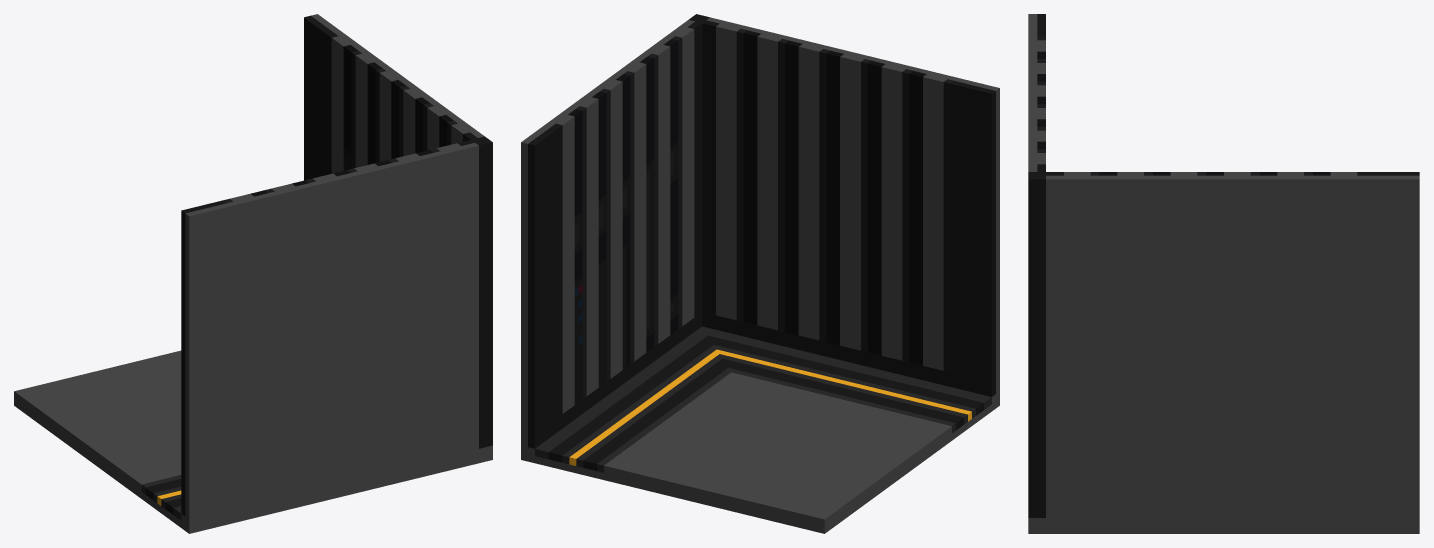
File: mesh_hanger_wall_grid_corner.obj
3 renders of one model, left to right at view 1: azimuth 30°, elevation 25°; view 2: azimuth 150°, elevation 25°; view 3: azimuth 270°, elevation 25°, orthographic. The views are drawn at different scales.
Size of the model in its own units: 4.4 by 4.4 by 4.4.
1 material, 1 textured.
